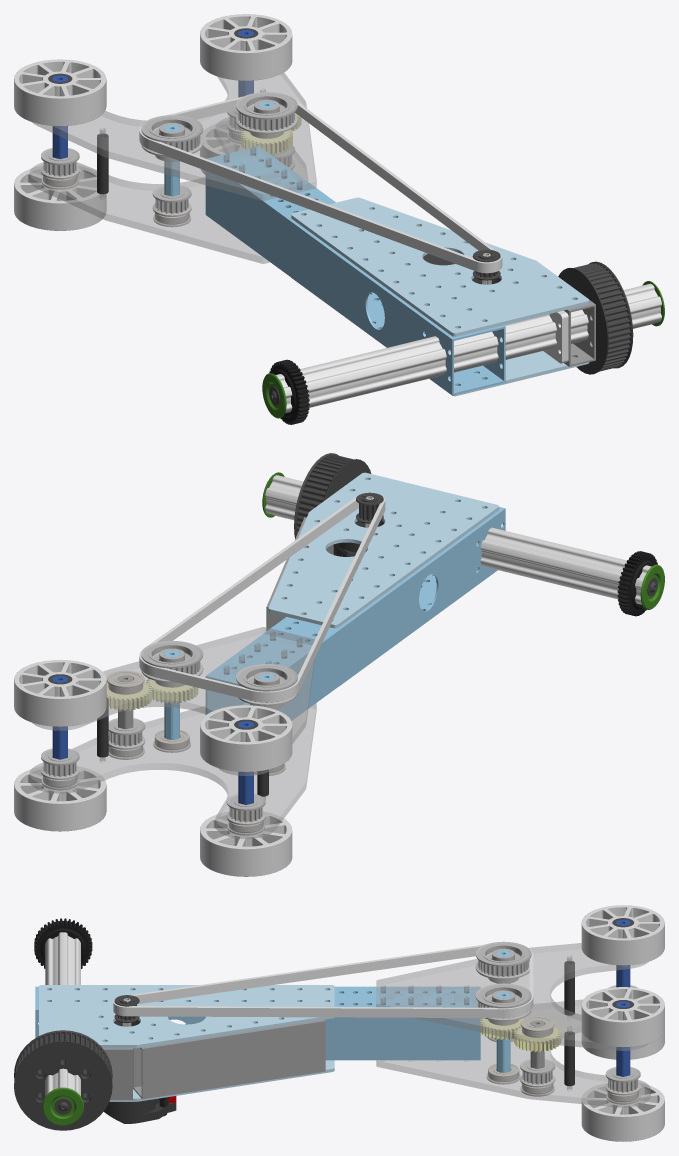
3 renders of one model, top to bottom at view 1: azimuth 30°, elevation 25°; view 2: azimuth 150°, elevation 25°; view 3: azimuth 270°, elevation 25°, orthographic. The views are drawn at different scales.
Parts seen in each view (by area): view 1: Tube 2"x2"x16", Part 6, am-3946 3IN 500Hex Molded Compliant Wheel VER 2 (×4), Part 9, MAXSpline Shaft 14.118", Part 10, Part 4, 56T HTD Pulley 21mm Wide, 30t 9mm Wide 1/2" Hex Bore Double Flange 5mm HTD Aluminum Pu (×2), 18t 9mm Wide 1/2" Hex Bore Double Flange 5mm HTD Aluminum Pu (×2), Part 7, 40T 20DP Steel MAXSpline Gear (REV-21-3014) (+7 smaller); view 2: am-3946 3IN 500Hex Molded Compliant Wheel VER 2 (×4), Part 6, Tube 2"x2"x16", Part 10, Part 9, MAXSpline Shaft 14.118", Part 4, 30t 9mm Wide 1/2" Hex Bore Double Flange 5mm HTD Aluminum Pu (×2), 18t 9mm Wide 1/2" Hex Bore Double Flange 5mm HTD Aluminum Pu (×3), 56T HTD Pulley 21mm Wide, 32t 20dp Aluminum 1/2" Hex Bore Gear (217-5470) (×2), 40T 20DP Steel MAXSpline Gear (REV-21-3014) (+5 smaller); view 3: am-3946 3IN 500Hex Molded Compliant Wheel VER 2 (×4), Part 6, Part 9, Tube 2"x2"x16", Tube 2"x1"x7", Part 4, Part 10, 56T HTD Pulley 21mm Wide, 30t 9mm Wide 1/2" Hex Bore Double Flange 5mm HTD Aluminum Pu (×2), MAXSpline Shaft 14.118", 18t 9mm Wide 1/2" Hex Bore Double Flange 5mm HTD Aluminum Pu (×2), 32t 20dp Aluminum 1/2" Hex Bore Gear (217-5470) (×2) (+11 smaller).
Part boxes in pixels (x1=…): Tube 2"x2"x16": x1=205, y1=146, x2=505, y2=395; Part 6: x1=291, y1=197, x2=589, y2=336; am-3946 3IN 500Hex Molded Compliant Wheel VER 2 (×4): x1=14, y1=14, x2=292, y2=230; Part 9: x1=32, y1=72, x2=316, y2=200; MAXSpline Shaft 14.118": x1=275, y1=283, x2=661, y2=413; Part 10: x1=29, y1=117, x2=307, y2=263; Part 4: x1=139, y1=96, x2=502, y2=273; 56T HTD Pulley 21mm Wide: x1=558, y1=261, x2=633, y2=374; 30t 9mm Wide 1/2" Hex Bore Double Flange 5mm HTD Aluminum Pu (×2): x1=141, y1=92, x2=297, y2=156; 18t 9mm Wide 1/2" Hex Bore Double Flange 5mm HTD Aluminum Pu (×2): x1=41, y1=148, x2=191, y2=216; Part 7: x1=292, y1=278, x2=589, y2=396; 40T 20DP Steel MAXSpline Gear (REV-21-3014): x1=269, y1=359, x2=309, y2=424; am-3946 3IN 500Hex Molded Compliant Wheel VER 2 (×4): x1=14, y1=660, x2=292, y2=876; Part 6: x1=268, y1=472, x2=498, y2=628; Tube 2"x2"x16": x1=205, y1=507, x2=505, y2=720; Part 10: x1=29, y1=703, x2=316, y2=838; Part 9: x1=32, y1=627, x2=315, y2=775; MAXSpline Shaft 14.118": x1=265, y1=475, x2=651, y2=604; Part 4: x1=139, y1=496, x2=385, y2=702; 30t 9mm Wide 1/2" Hex Bore Double Flange 5mm HTD Aluminum Pu (×2): x1=141, y1=640, x2=297, y2=705; 18t 9mm Wide 1/2" Hex Bore Double Flange 5mm HTD Aluminum Pu (×3): x1=41, y1=718, x2=265, y2=825; 56T HTD Pulley 21mm Wide: x1=294, y1=453, x2=371, y2=538; 32t 20dp Aluminum 1/2" Hex Bore Gear (217-5470) (×2): x1=106, y1=678, x2=198, y2=710; 40T 20DP Steel MAXSpline Gear (REV-21-3014): x1=617, y1=551, x2=657, y2=616; am-3946 3IN 500Hex Molded Compliant Wheel VER 2 (×4): x1=581, y1=905, x2=664, y2=1141; Part 6: x1=39, y1=985, x2=334, y2=1048; Part 9: x1=376, y1=943, x2=648, y2=1050; Tube 2"x2"x16": x1=35, y1=986, x2=480, y2=1060; Tube 2"x1"x7": x1=133, y1=1020, x2=325, y2=1099; Part 4: x1=113, y1=944, x2=533, y2=1018; Part 10: x1=376, y1=999, x2=650, y2=1107; 56T HTD Pulley 21mm Wide: x1=14, y1=1030, x2=112, y2=1130; 30t 9mm Wide 1/2" Hex Bore Double Flange 5mm HTD Aluminum Pu (×2): x1=475, y1=941, x2=531, y2=1021; MAXSpline Shaft 14.118": x1=45, y1=932, x2=80, y2=1096; 18t 9mm Wide 1/2" Hex Bore Double Flange 5mm HTD Aluminum Pu (×2): x1=520, y1=1059, x2=640, y2=1095; 32t 20dp Aluminum 1/2" Hex Bore Gear (217-5470) (×2): x1=480, y1=1017, x2=561, y2=1052.
Size of the model in its own units: 0.3637 by 0.1297 by 0.5943.
